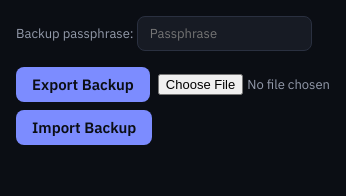
Test: BackupPanel UI › export without passphrase shows error
This screenshot has width=346, height=196.
Click the button "Export Backup". click: [83, 84]
box: [16,67,150,102]
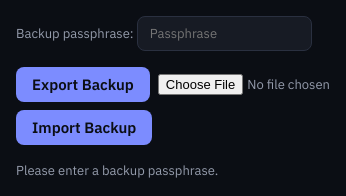
Expected: the text "Please enter a backup passphrase." is shown, [16,162,218,179]
